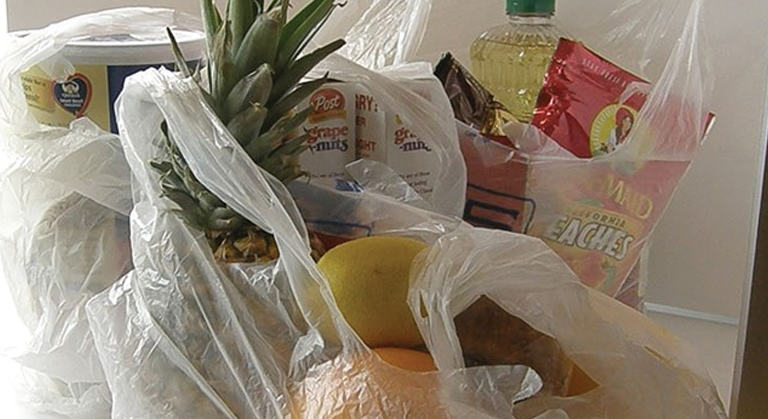plastic_bagwdw: (64, 88, 710, 419), (332, 5, 747, 329), (1, 7, 303, 419)
